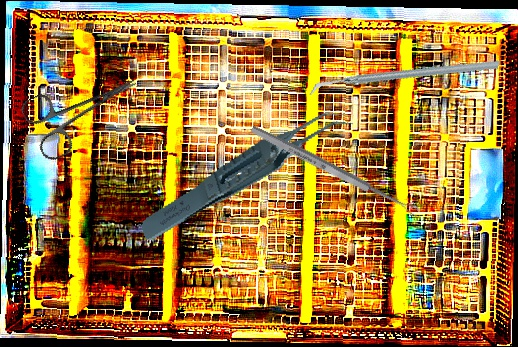Chopper: (308, 10, 501, 146)
Iris Scissors: (18, 54, 151, 164)
Surgical Spoon: (249, 123, 421, 219)
Tissue Forceps: (125, 105, 369, 245)
